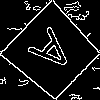A: (26, 26, 83, 83)
